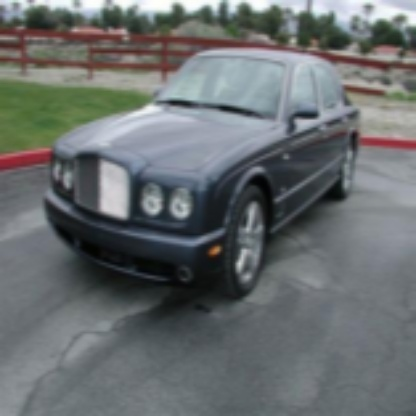Vehicle: (46, 48, 362, 302)
